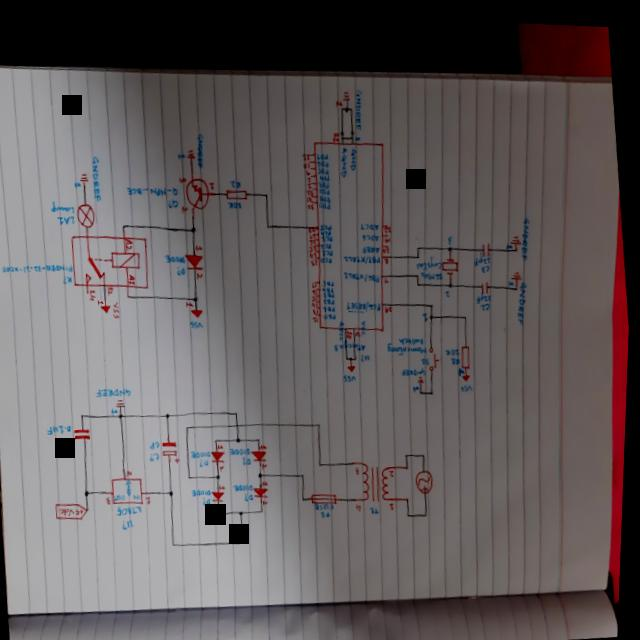capacitor: (163, 437, 183, 462), (75, 425, 94, 440), (481, 274, 490, 289), (482, 237, 491, 252)
crossover: (235, 418, 243, 426)
diode: (184, 249, 205, 269), (252, 445, 269, 460), (212, 447, 228, 462), (255, 482, 272, 496), (213, 487, 229, 500)
ground: (510, 229, 523, 240), (79, 170, 90, 182), (511, 265, 523, 276), (116, 396, 128, 407), (185, 146, 195, 157), (341, 86, 350, 98), (418, 370, 426, 379)
junction: (120, 220, 128, 230), (190, 223, 198, 232), (170, 486, 178, 495), (125, 290, 133, 299), (258, 468, 266, 476), (86, 487, 93, 496), (166, 409, 173, 418), (240, 506, 247, 513), (406, 492, 413, 498), (81, 411, 88, 417), (265, 219, 271, 226), (425, 506, 431, 513), (318, 418, 324, 424), (242, 536, 248, 542), (235, 408, 241, 414), (406, 460, 412, 466), (408, 507, 414, 513), (174, 539, 180, 545), (193, 294, 199, 300), (120, 411, 126, 417), (264, 189, 269, 195), (320, 458, 325, 464), (431, 385, 436, 391), (423, 448, 428, 454), (238, 433, 243, 439), (303, 493, 308, 499), (303, 469, 308, 475), (406, 448, 411, 454), (449, 277, 454, 283), (344, 102, 349, 108), (261, 505, 267, 510), (448, 241, 453, 246), (429, 310, 434, 315), (218, 471, 223, 476), (215, 435, 220, 440), (416, 241, 420, 245), (350, 131, 354, 135), (340, 132, 344, 136), (350, 353, 354, 357), (220, 508, 224, 512), (340, 103, 343, 108), (259, 434, 262, 439), (465, 310, 468, 314), (418, 277, 421, 281), (417, 268, 420, 272), (417, 250, 420, 254), (431, 298, 434, 302), (421, 385, 424, 389), (516, 281, 519, 285), (515, 242, 518, 246), (190, 473, 193, 477), (187, 423, 190, 427), (350, 103, 352, 107), (347, 352, 349, 356), (356, 352, 358, 356)
resistor: (225, 184, 247, 199), (460, 339, 473, 364)
source: (416, 464, 437, 490), (101, 299, 112, 313), (191, 305, 204, 316), (463, 368, 472, 376), (348, 361, 358, 368)
switch: (428, 341, 443, 368)
terminal: (57, 499, 92, 521)
text: (0, 255, 76, 279), (125, 179, 179, 199), (514, 274, 532, 320), (388, 334, 429, 353), (517, 211, 534, 256), (89, 152, 104, 202), (344, 264, 381, 282), (351, 83, 365, 127), (343, 248, 381, 263), (97, 383, 134, 398), (334, 334, 368, 350), (47, 420, 76, 437), (416, 249, 443, 267), (351, 294, 381, 310), (194, 130, 207, 165), (50, 196, 75, 214), (118, 501, 145, 515), (402, 360, 428, 374), (339, 142, 350, 174), (399, 330, 426, 343), (420, 264, 444, 277), (62, 504, 87, 516), (473, 245, 491, 261), (348, 143, 359, 169), (164, 250, 186, 263), (232, 442, 253, 455), (193, 483, 214, 495), (475, 285, 493, 299), (192, 445, 213, 456), (57, 213, 76, 225), (112, 298, 122, 319), (235, 479, 256, 489), (316, 498, 337, 508), (362, 240, 381, 251), (360, 217, 380, 227), (362, 228, 380, 238), (445, 342, 462, 352), (126, 477, 136, 494), (62, 435, 75, 448), (339, 316, 347, 337), (227, 197, 243, 207), (124, 516, 137, 528), (191, 316, 205, 327), (125, 235, 135, 250), (63, 272, 74, 285), (344, 369, 358, 379), (88, 286, 98, 299), (228, 176, 241, 186), (361, 316, 369, 332), (168, 195, 179, 206), (151, 449, 162, 460), (361, 348, 373, 358), (318, 176, 330, 186), (461, 378, 474, 387), (321, 230, 334, 239), (318, 197, 331, 206), (319, 190, 332, 199), (317, 163, 330, 172), (316, 156, 329, 165), (316, 148, 329, 157), (323, 301, 337, 309), (151, 438, 162, 448), (322, 244, 334, 253), (322, 506, 334, 515), (177, 262, 186, 274), (324, 309, 337, 317), (323, 294, 336, 302), (322, 275, 335, 283), (319, 219, 332, 227), (107, 282, 116, 293), (421, 352, 432, 361), (451, 351, 462, 360), (480, 296, 491, 305), (319, 183, 330, 192), (200, 455, 211, 464), (246, 489, 257, 498), (371, 501, 382, 510), (129, 271, 137, 283), (324, 287, 336, 295), (320, 252, 332, 260), (320, 238, 332, 246), (322, 282, 335, 289), (116, 492, 129, 499), (244, 453, 254, 462), (205, 493, 214, 503), (446, 229, 454, 240), (319, 170, 330, 178), (332, 128, 340, 139), (385, 300, 394, 309), (481, 259, 490, 268), (301, 149, 310, 158), (334, 95, 343, 104), (177, 149, 186, 158), (186, 297, 195, 306), (128, 466, 136, 476), (208, 178, 216, 188), (413, 379, 421, 389), (357, 497, 364, 508), (423, 307, 430, 318), (459, 361, 466, 372), (347, 325, 354, 336), (321, 225, 332, 232), (444, 284, 452, 293), (113, 405, 121, 414), (310, 255, 319, 263), (305, 185, 314, 193), (181, 202, 189, 211), (178, 173, 187, 181), (73, 179, 81, 188), (196, 269, 204, 278), (196, 241, 204, 250), (506, 237, 514, 245), (303, 158, 311, 166), (353, 130, 361, 138), (221, 500, 229, 508), (135, 491, 143, 499), (383, 221, 392, 228), (309, 248, 318, 255), (309, 241, 318, 248), (390, 464, 397, 473), (147, 493, 154, 502), (508, 274, 516, 281), (382, 243, 390, 250), (384, 231, 391, 239), (312, 297, 320, 304), (309, 229, 317, 236), (308, 222, 316, 229), (221, 480, 228, 488), (219, 440, 226, 448), (313, 312, 320, 319), (313, 304, 320, 311), (312, 291, 319, 298), (312, 285, 319, 292), (312, 278, 319, 285), (310, 235, 317, 242), (307, 199, 314, 206), (306, 192, 313, 199), (264, 496, 271, 503), (264, 476, 271, 483), (262, 440, 269, 447), (98, 297, 105, 304), (305, 165, 311, 173), (391, 498, 397, 506), (108, 495, 114, 503), (384, 272, 390, 279), (384, 253, 390, 260), (357, 462, 362, 470), (356, 327, 362, 333), (264, 460, 270, 466), (307, 179, 312, 186), (307, 173, 312, 180), (222, 462, 227, 469)
transformer: (358, 454, 395, 500)
transistor: (184, 174, 211, 209)
